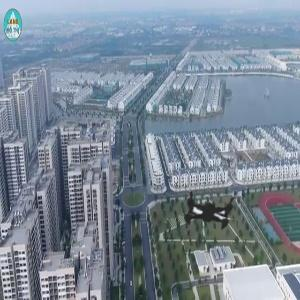drone: (136, 138, 293, 295)
